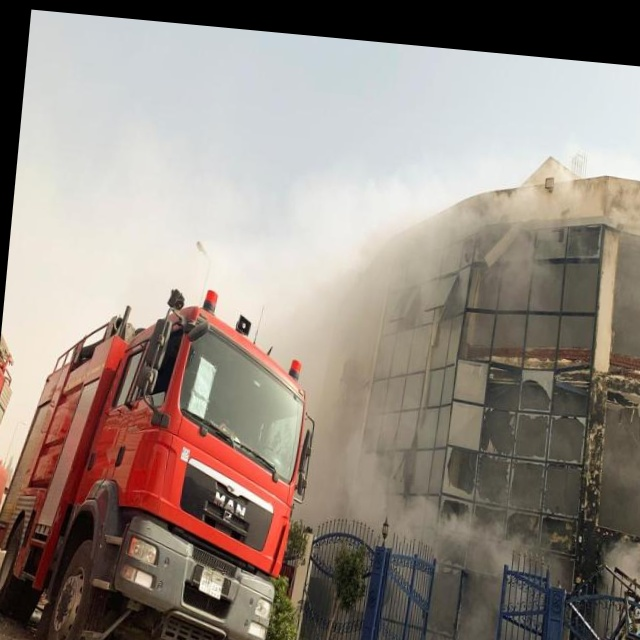Fire-truck: (0, 269, 327, 640)
